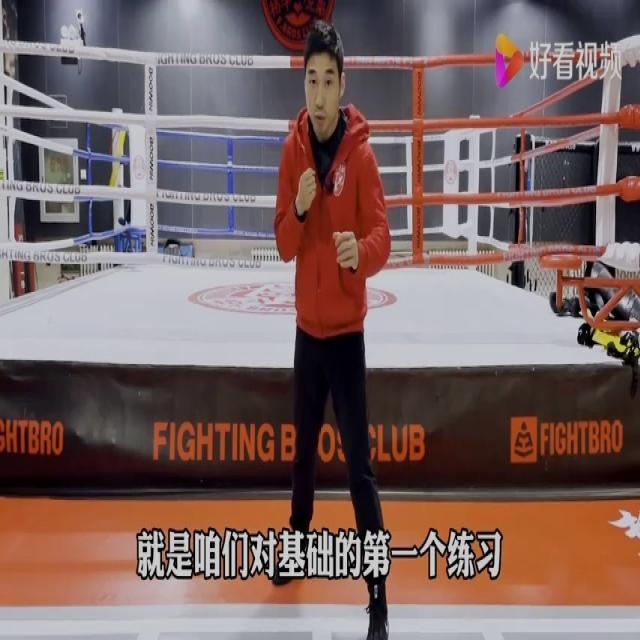non-fight: (273, 19, 394, 626)
